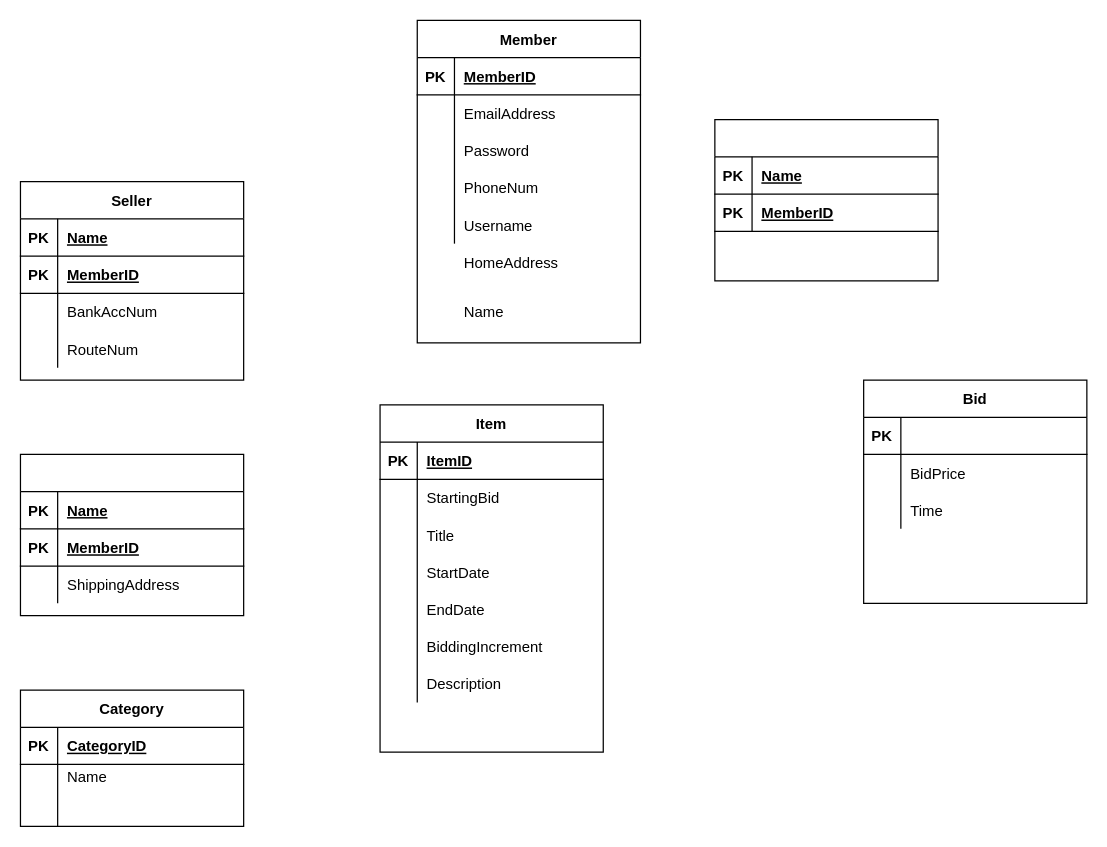
The diagram is 1107 pixels wide and 847 high, and some of its shapes have lost their labels. The box of each missing label's shape, as (x1, y1, x2, y2) in pixels:
Admin: (714, 118, 938, 281)
Buyer: (19, 453, 244, 616)
